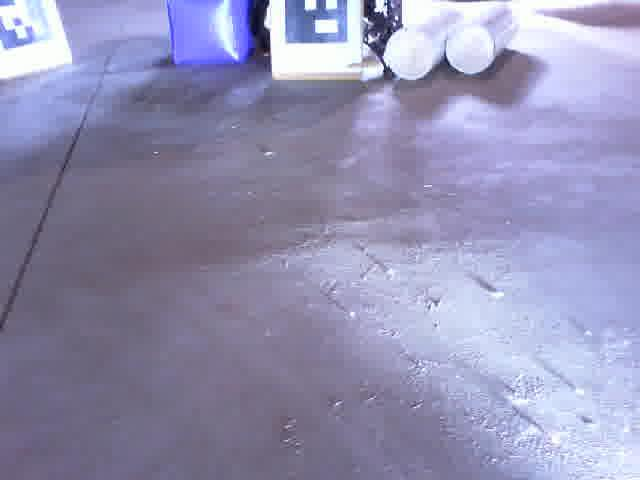coral: (383, 0, 465, 84), (444, 0, 517, 74)
